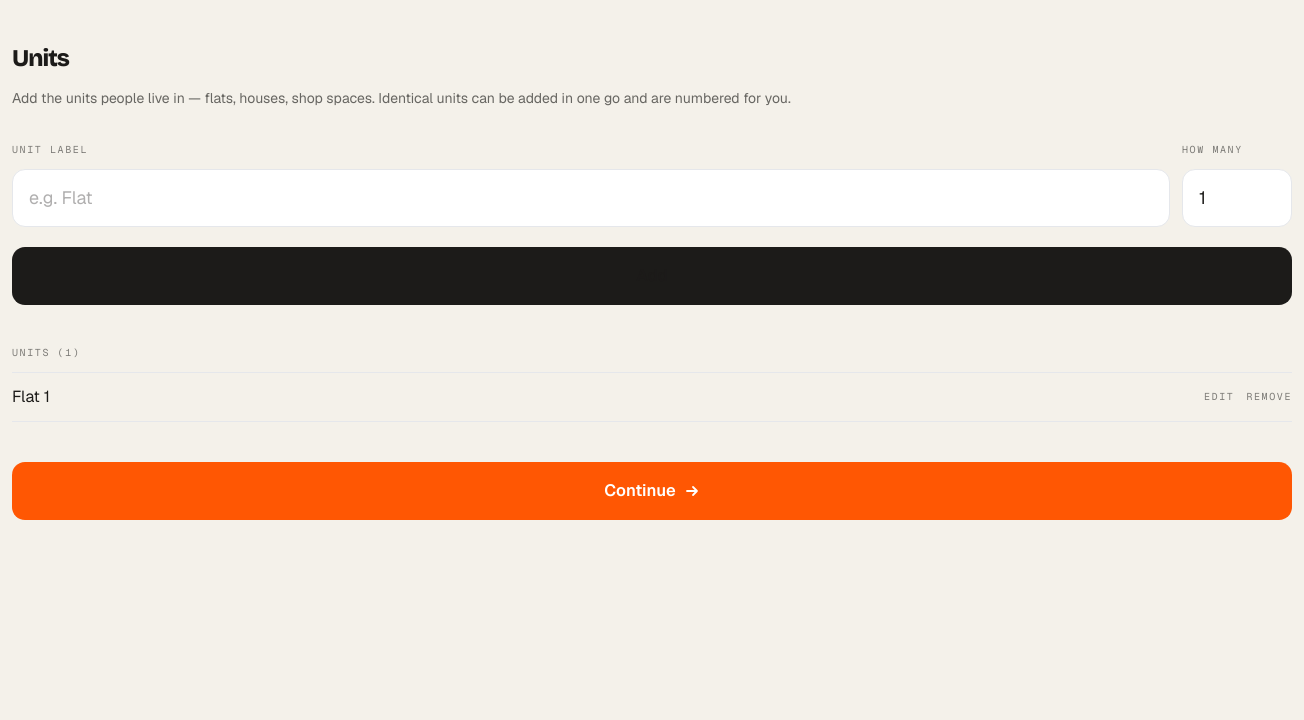
Test: CommunityUnitsStep › edits a unit label via inline row edit
The width and height of the screenshot is (1304, 720).
Expected: the text "Flat 1" is shown, [12,386,50,407]
Click the button "Edit" at (1219, 397), box [1204,389,1234,404]
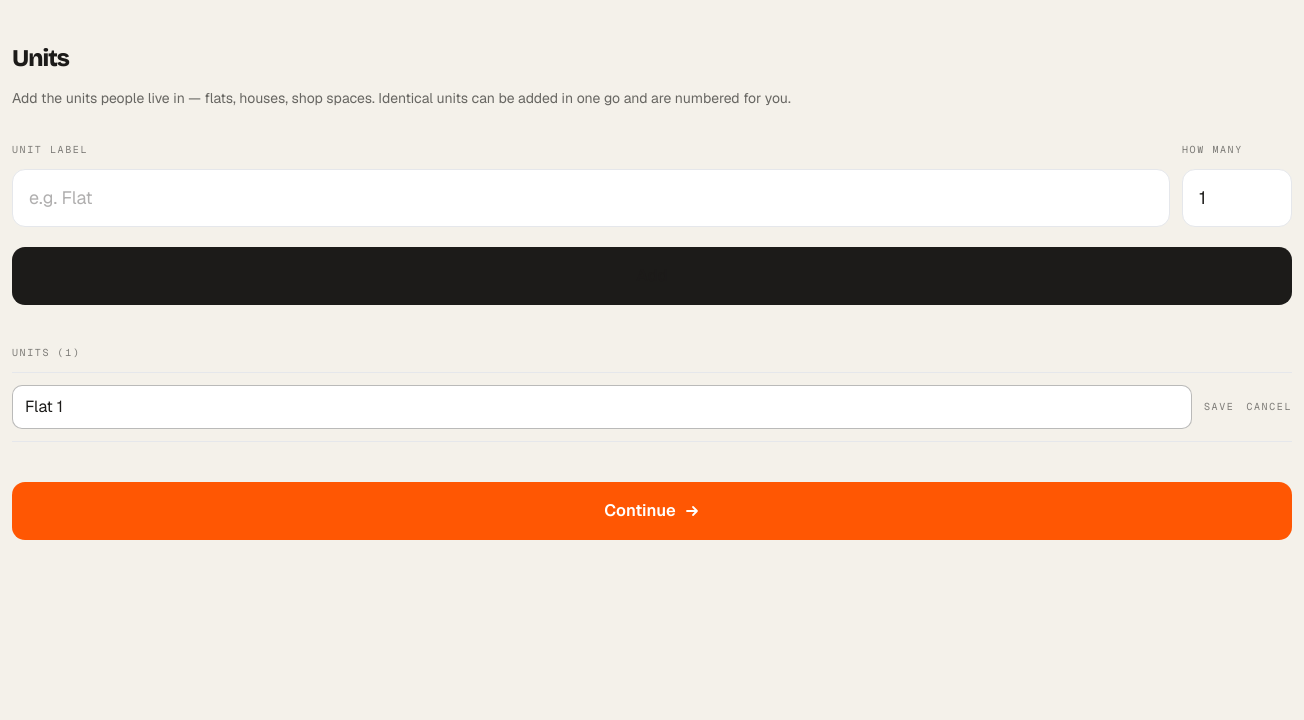
Replace the text in the field named "New label for Flat 1" with "Flat 1A" at (602, 407), box [12,385,1192,429]
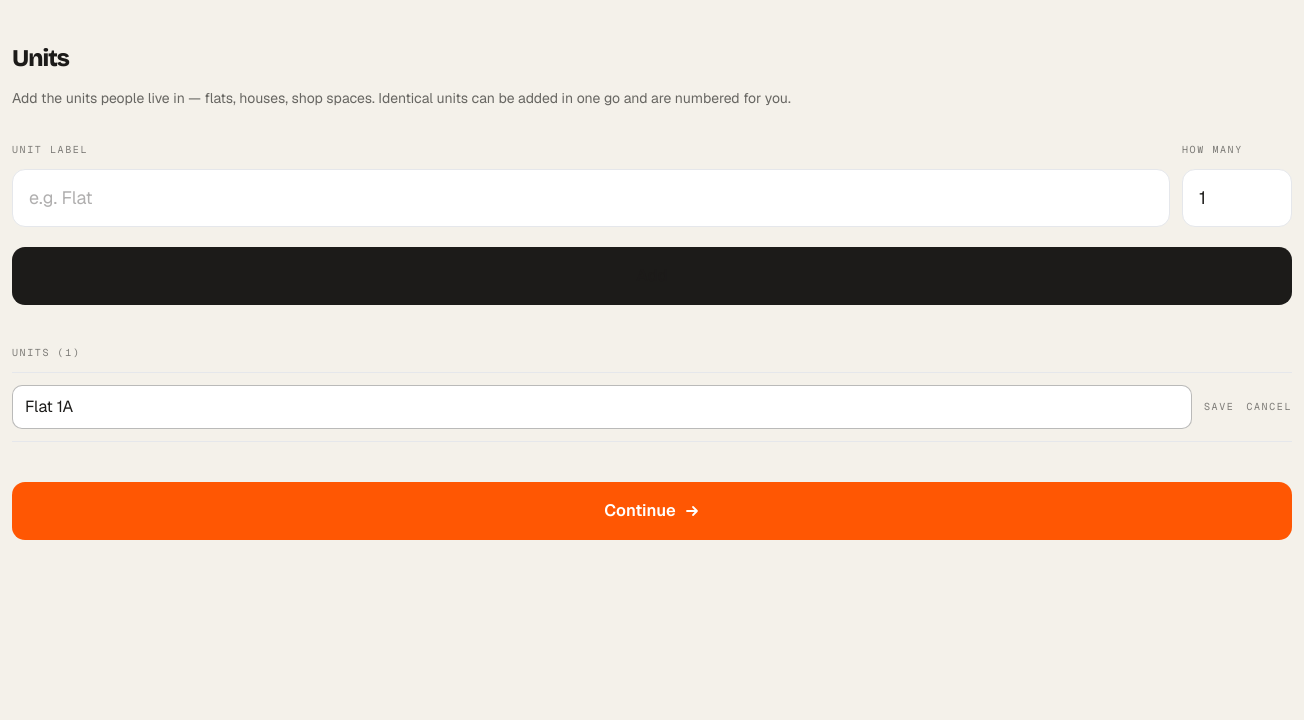
Click the button "Save" at (1219, 407), box [1204,399,1234,414]
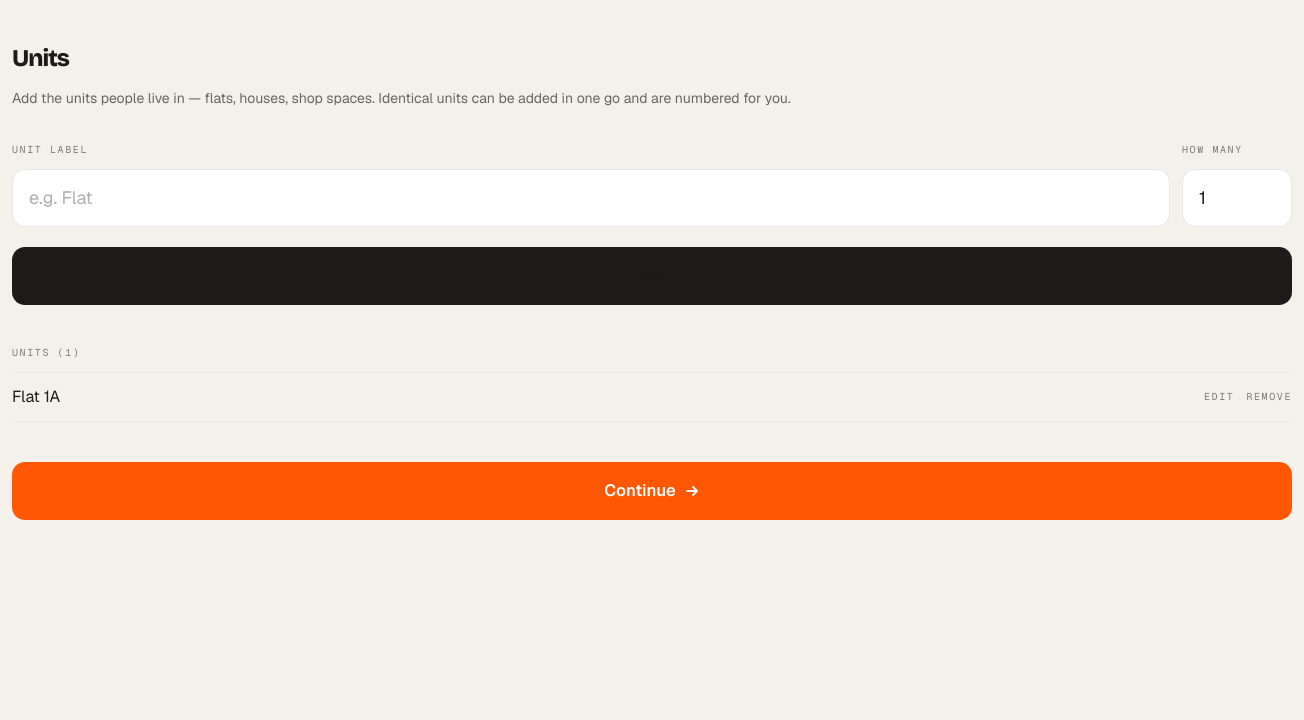
Now the text "Flat 1A" is shown, box [12,386,60,407]
